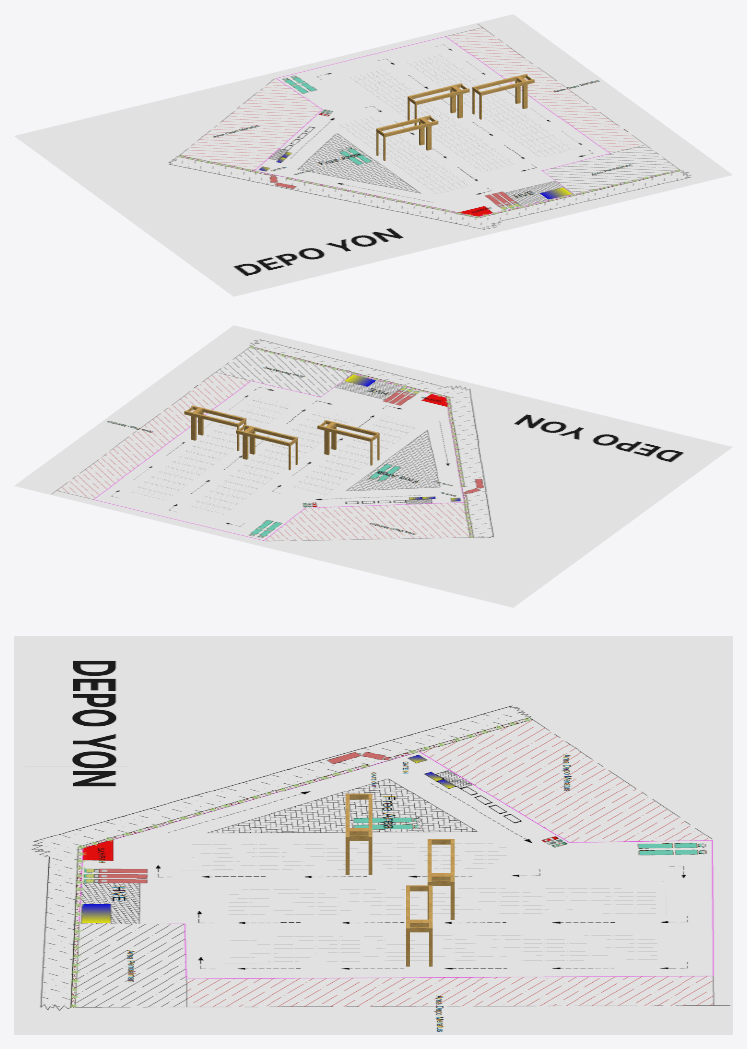
The model's file is new-depo-yon.glb.
3 renders of one model, top to bottom at view 1: azimuth 30°, elevation 25°; view 2: azimuth 150°, elevation 25°; view 3: azimuth 270°, elevation 25°, orthographic. The views are drawn at different scales.
Visible parts, largest first — view 1: Plane, RTG_C, RTG_A, RTG_B; view 2: Plane, RTG_B, RTG_A, RTG_C; view 3: Plane, RTG_A, RTG_C, RTG_B.
Boxes of the visible parts, box(x1,y1,x2,y2) form: Plane: box(14, 14, 732, 296); RTG_C: box(472, 74, 534, 119); RTG_A: box(376, 115, 438, 160); RTG_B: box(407, 83, 469, 125); Plane: box(14, 325, 732, 607); RTG_B: box(236, 424, 297, 469); RTG_A: box(317, 420, 379, 465); RTG_C: box(184, 405, 246, 450); Plane: box(14, 636, 732, 1034); RTG_A: box(345, 793, 372, 874); RTG_C: box(406, 885, 432, 966); RTG_B: box(427, 839, 454, 919).
Size of the model in its own units: 353 by 18.03 by 269.
Materials: 299 (4 with a texture image).
